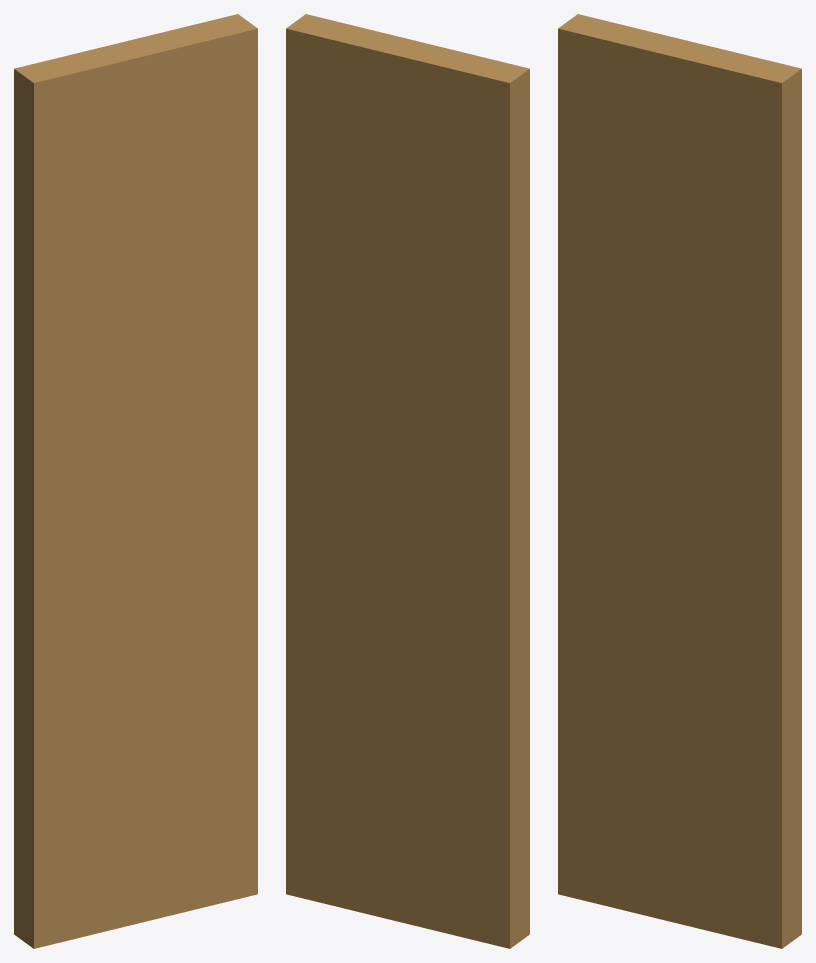
3 renders of one model, left to right at view 1: azimuth 30°, elevation 25°; view 2: azimuth 150°, elevation 25°; view 3: azimuth 330°, elevation 25°, orthographic.
Visible parts, largest first — view 1: shape; view 2: shape; view 3: shape.
Boxes of the visible parts, box(x1,y1,x2,y2) form: shape: box(14, 14, 257, 948); shape: box(286, 14, 529, 948); shape: box(558, 14, 801, 948).
Size of the model in its own units: 0.65 by 2.4 by 0.1.
